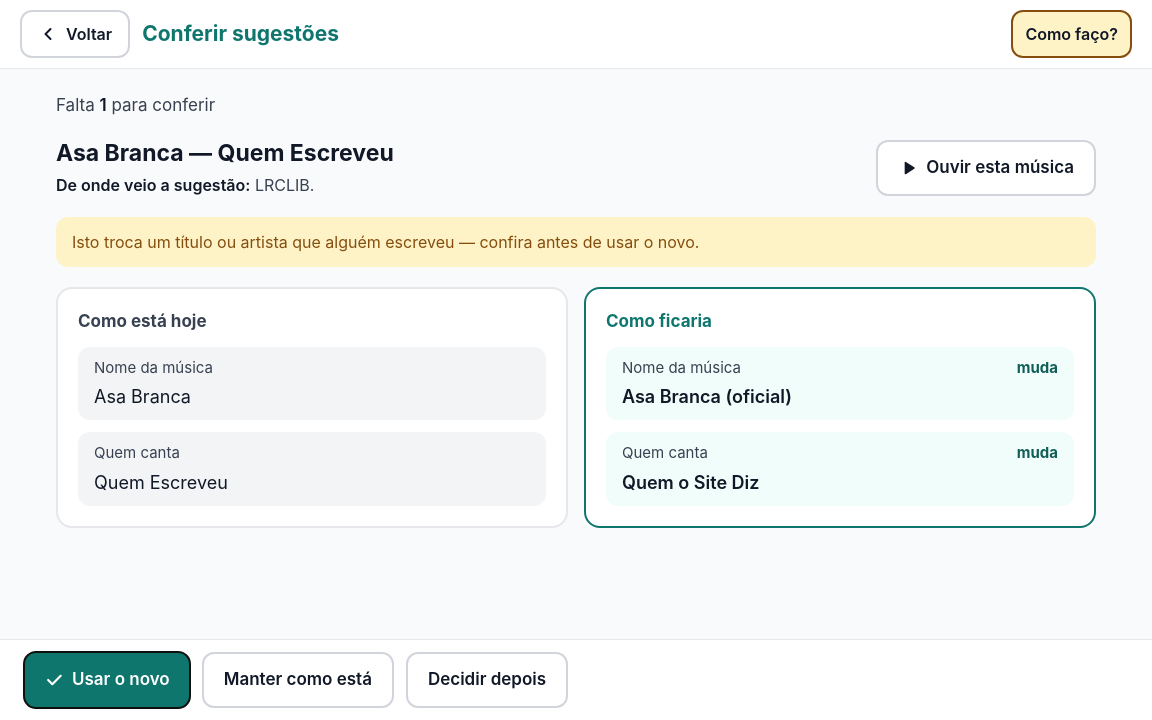
Test: Conferir (V15) — uma sugestão por vez › 'Decidir depois' não decide: a sugestão continua esperando em Organizar
Later steps or results of the test are not shown.
Click the button "Decidir depois" at (487, 680), box [406, 652, 568, 708]
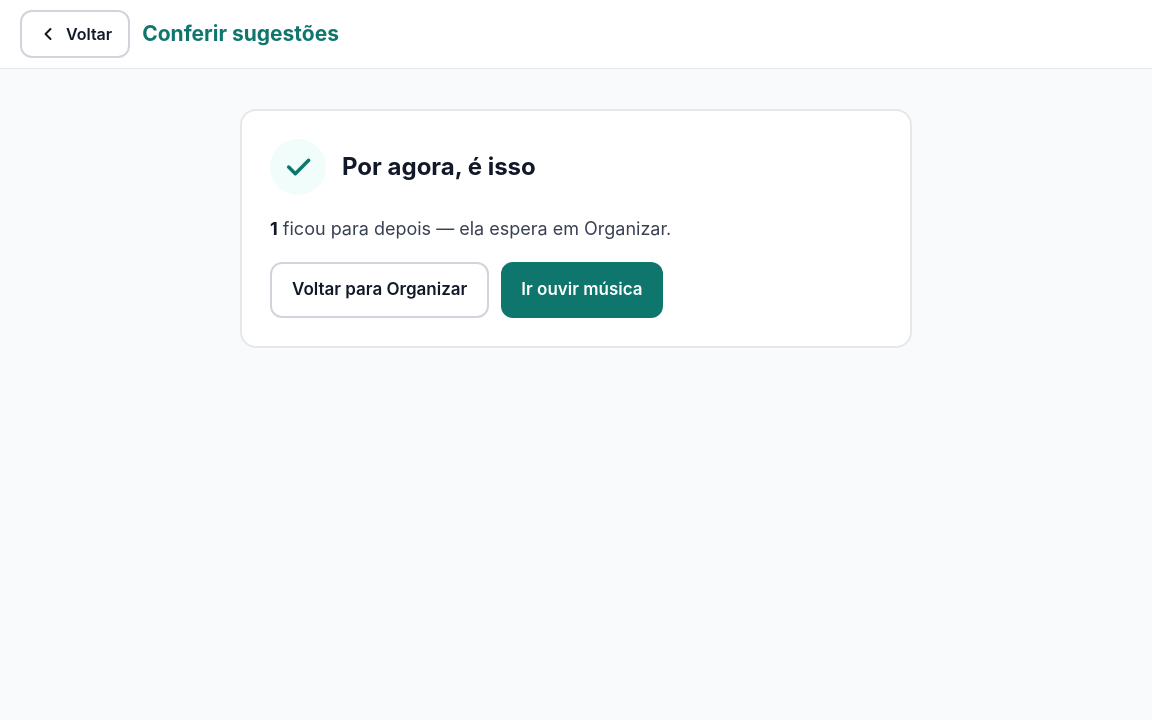
expect the list item "1 ficou para depois — ela espera em Organizar." is shown: met, box [270, 218, 671, 239]
